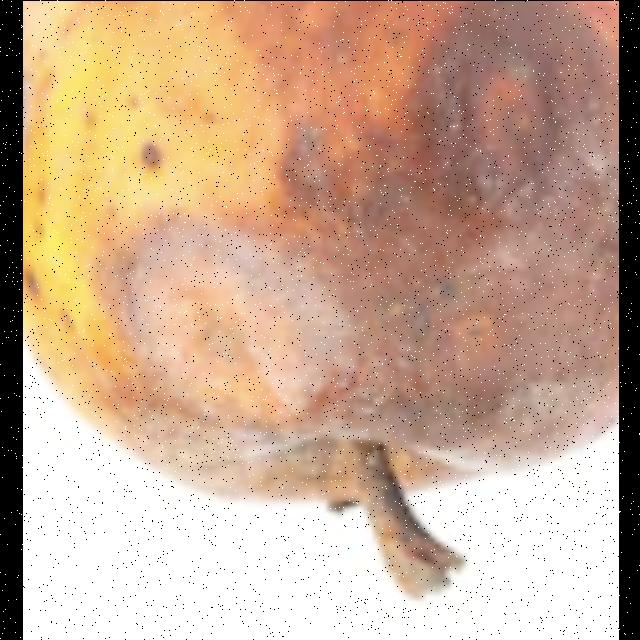Apel Tidak Segar: (22, 1, 618, 522)
